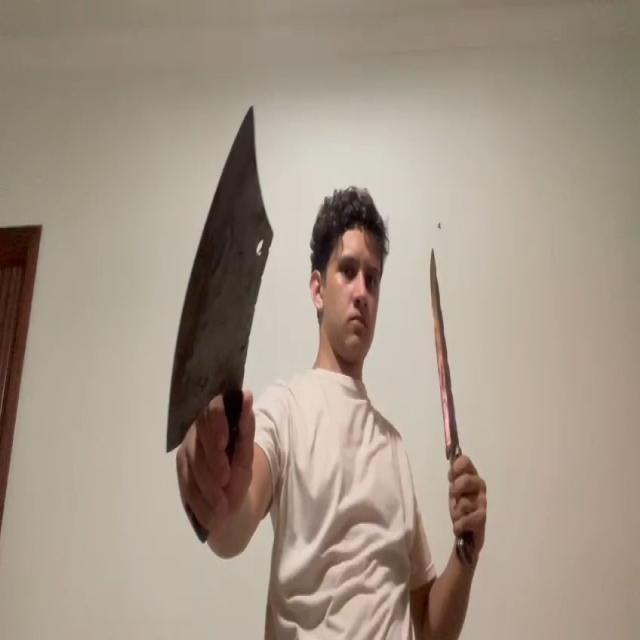knife: (165, 101, 276, 454), (430, 245, 460, 460)
